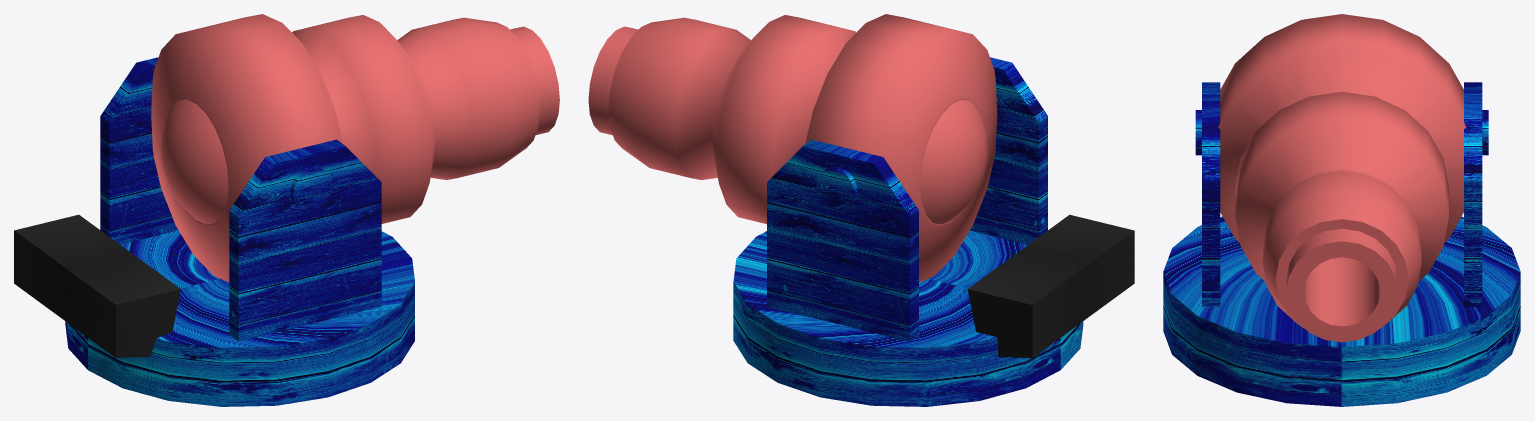
File: Asset_Cy-DogCannonTextured.fbx
3 renders of one model, left to right at view 1: azimuth 30°, elevation 25°; view 2: azimuth 150°, elevation 25°; view 3: azimuth 270°, elevation 25°, orthographic.
Visible parts, largest first — view 1: polySurface5; view 2: polySurface5; view 3: polySurface5.
Boxes of the visible parts, x1,y1,x2,y2 form: polySurface5: (14, 14, 559, 406); polySurface5: (588, 14, 1134, 406); polySurface5: (1163, 14, 1520, 406).
Bounding box in the file's own units: 29.31 × 17.96 × 19.09.
4 materials, 2 textured.
